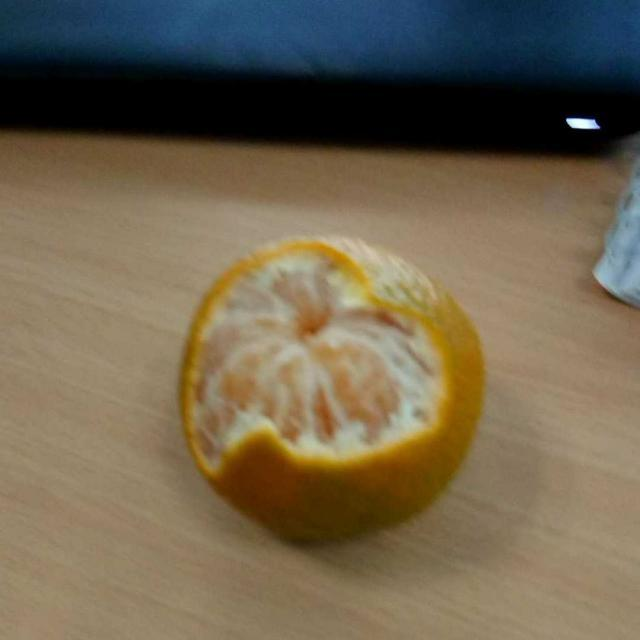mandarine: (181, 239, 476, 544)
